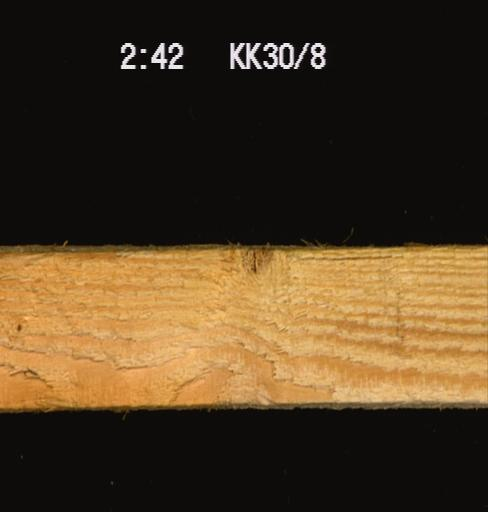edge_knot: (232, 246, 281, 277)
small_knot: (10, 314, 28, 333)
split: (288, 245, 425, 267)
